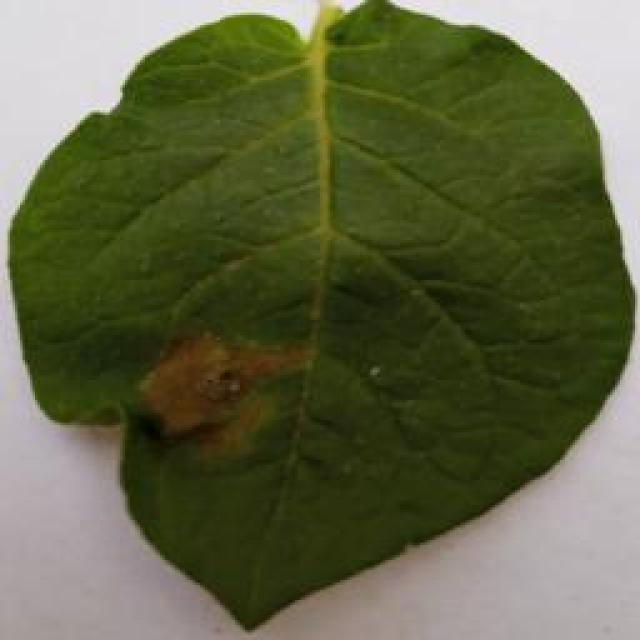Potato_Late_Blight: (6, 10, 635, 634)
